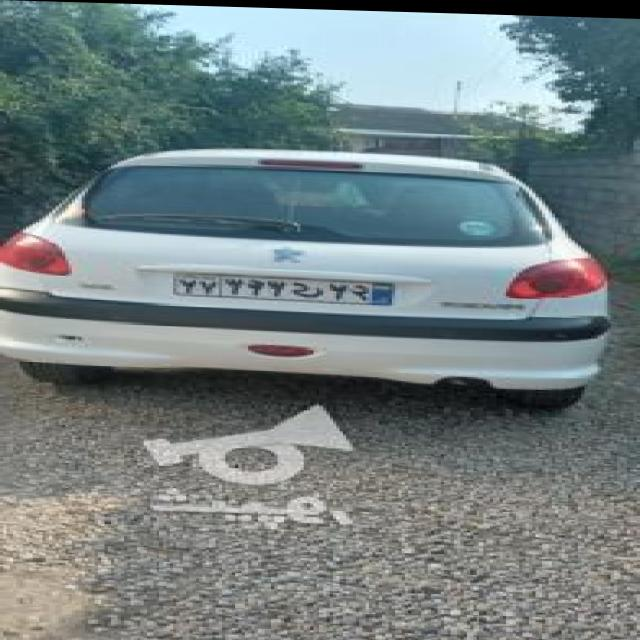licence: (166, 273, 402, 303)
